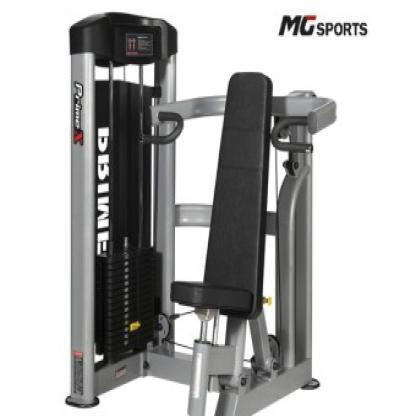shoulder press machine: (52, 6, 341, 416)
